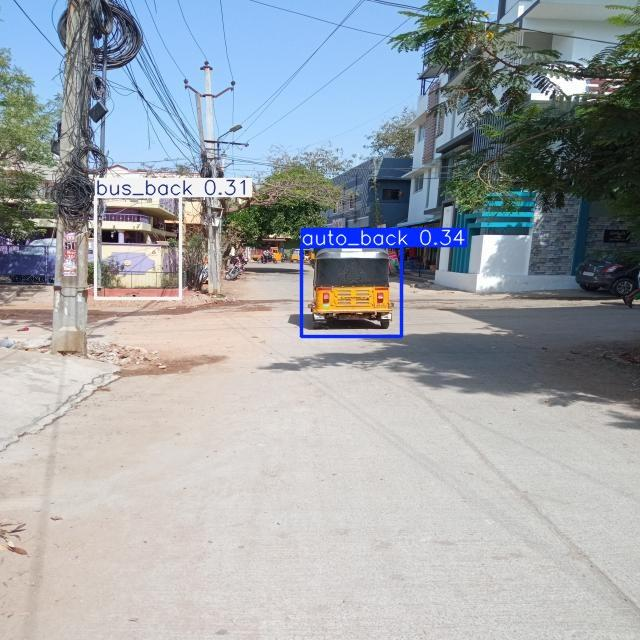auto_back: (303, 240, 400, 337)
